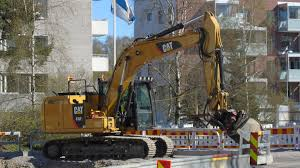excavator: (41, 12, 245, 159)
